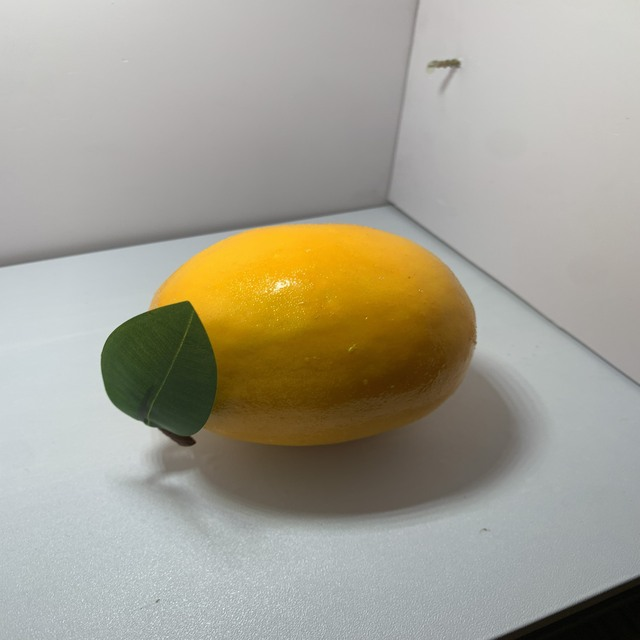Cam vang: (136, 216, 482, 455)
